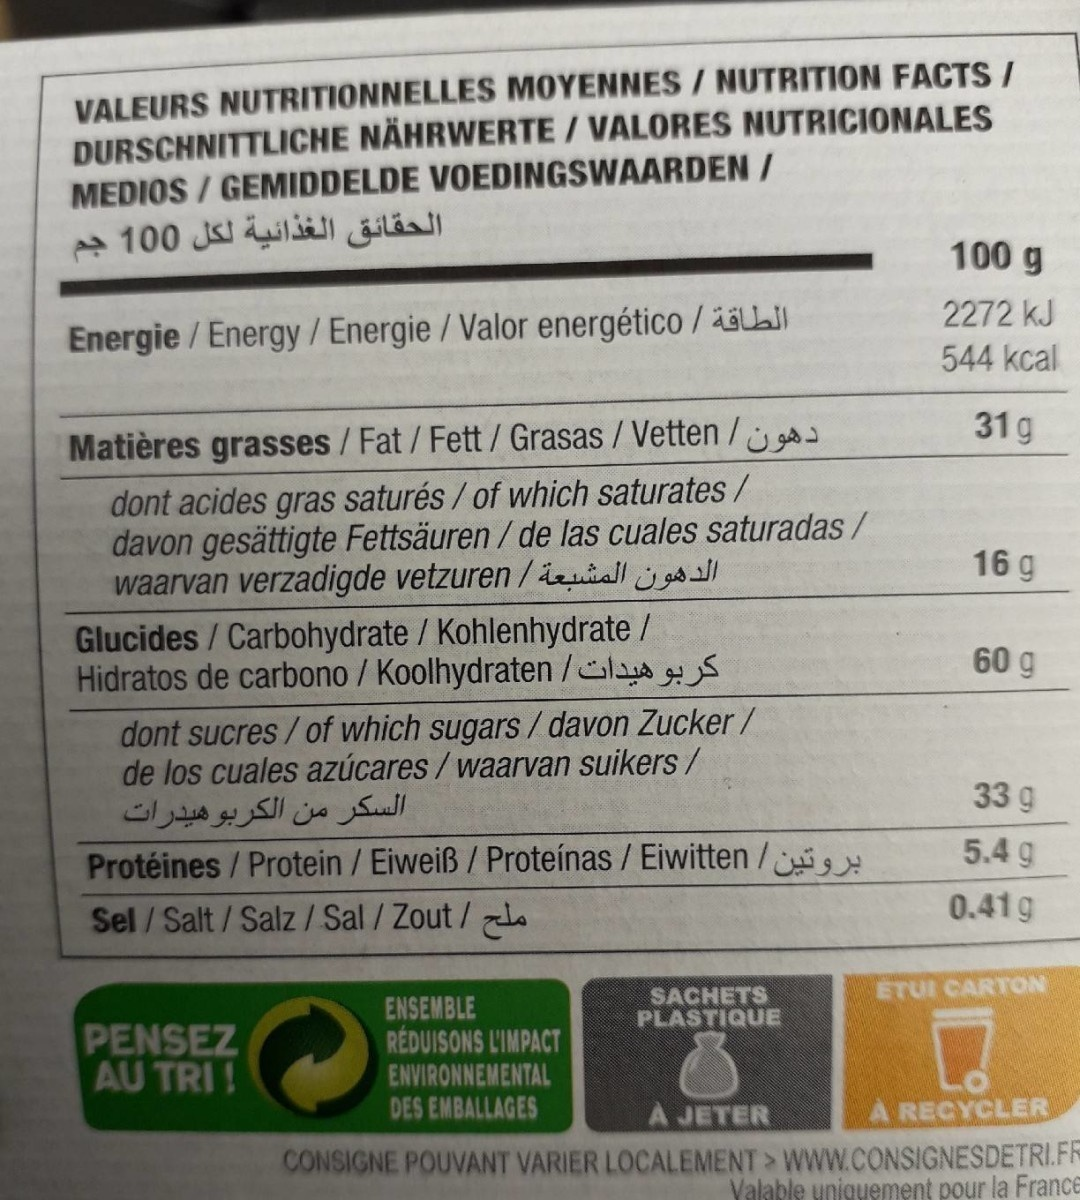column: (66, 281, 875, 944), (933, 235, 1064, 926)
table: (26, 36, 1080, 951)
